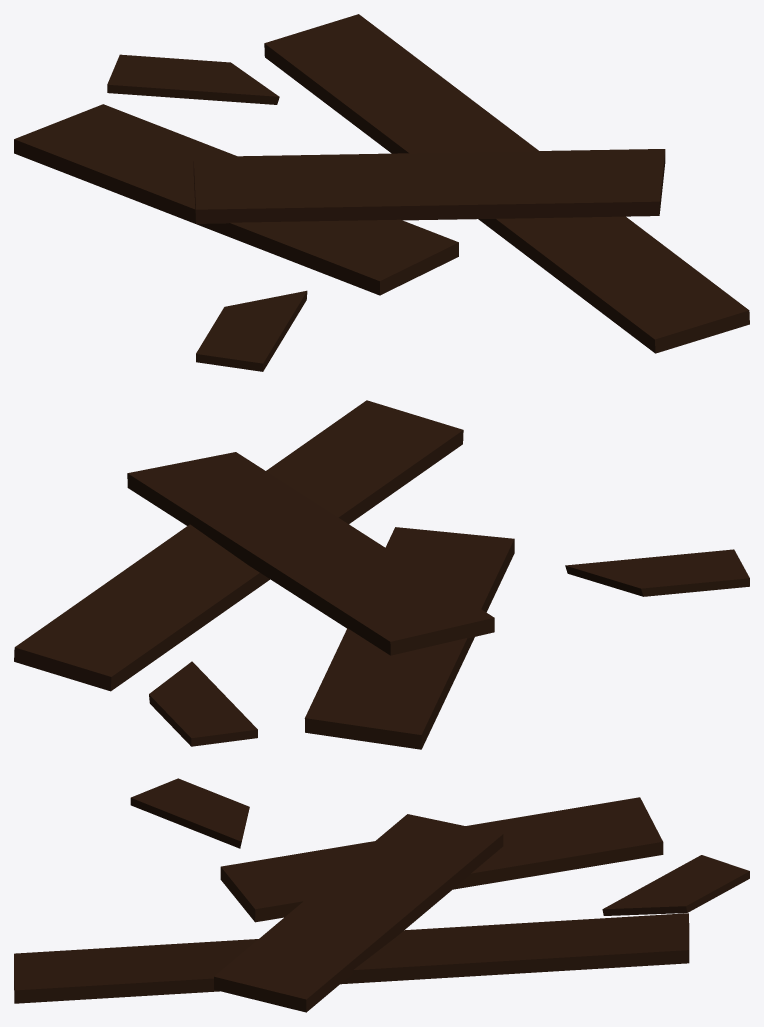
File: P_DebrisPlancheMoyen.FBX
3 renders of one model, top to bottom at view 1: azimuth 30°, elevation 25°; view 2: azimuth 150°, elevation 25°; view 3: azimuth 270°, elevation 25°, orthographic. The views are drawn at different scales.
Visible parts, largest first — view 1: Box006; view 2: Box006; view 3: Box006.
Part boxes in pixels (x1,y1,x2,y2): Box006: [14, 14, 749, 371]; Box006: [14, 400, 749, 749]; Box006: [14, 778, 749, 1012].
Size of the model in its own units: 119 by 11.23 by 154.
